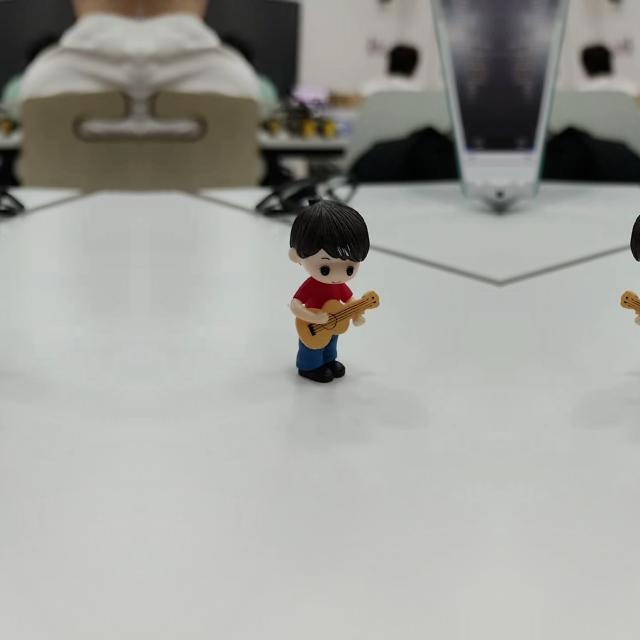man cloth: (290, 280, 358, 320)
man head: (287, 192, 373, 286), (627, 191, 640, 286)
trousers: (296, 328, 344, 384)
